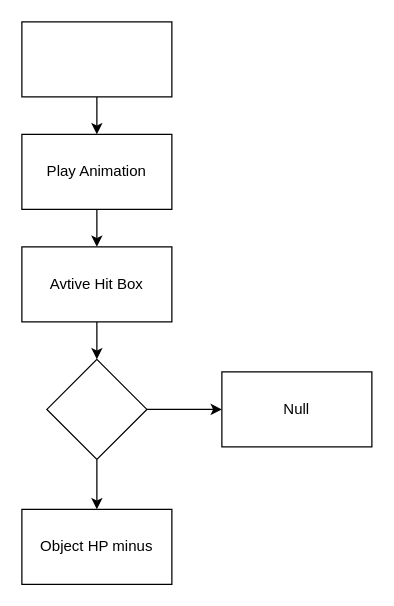
Image size: 394x606. Some labels were removed from this diagram. The centre of each missing label's shape, as x and y in pixels:
"Hit Box Hit" goes at (x=96, y=408).
"Press Button" goes at (x=96, y=59).
